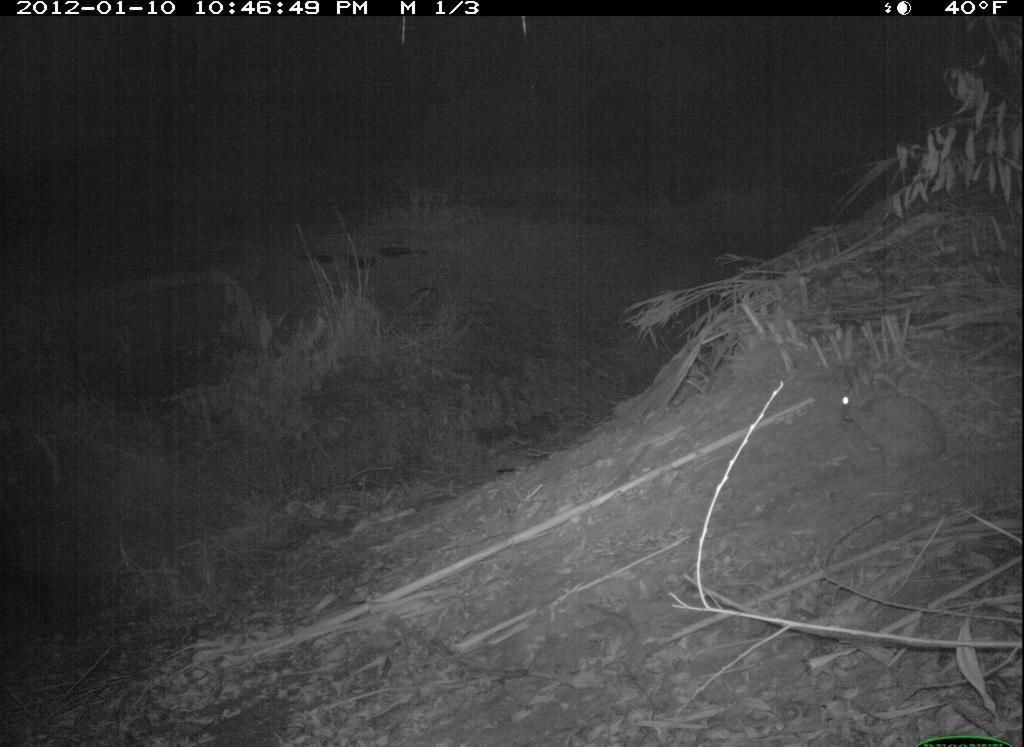rabbit: (834, 350, 955, 479)
